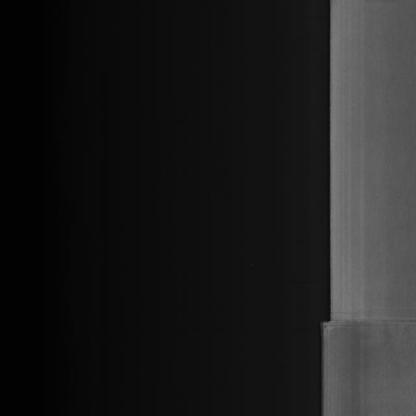welding_line: (308, 302, 415, 337)
